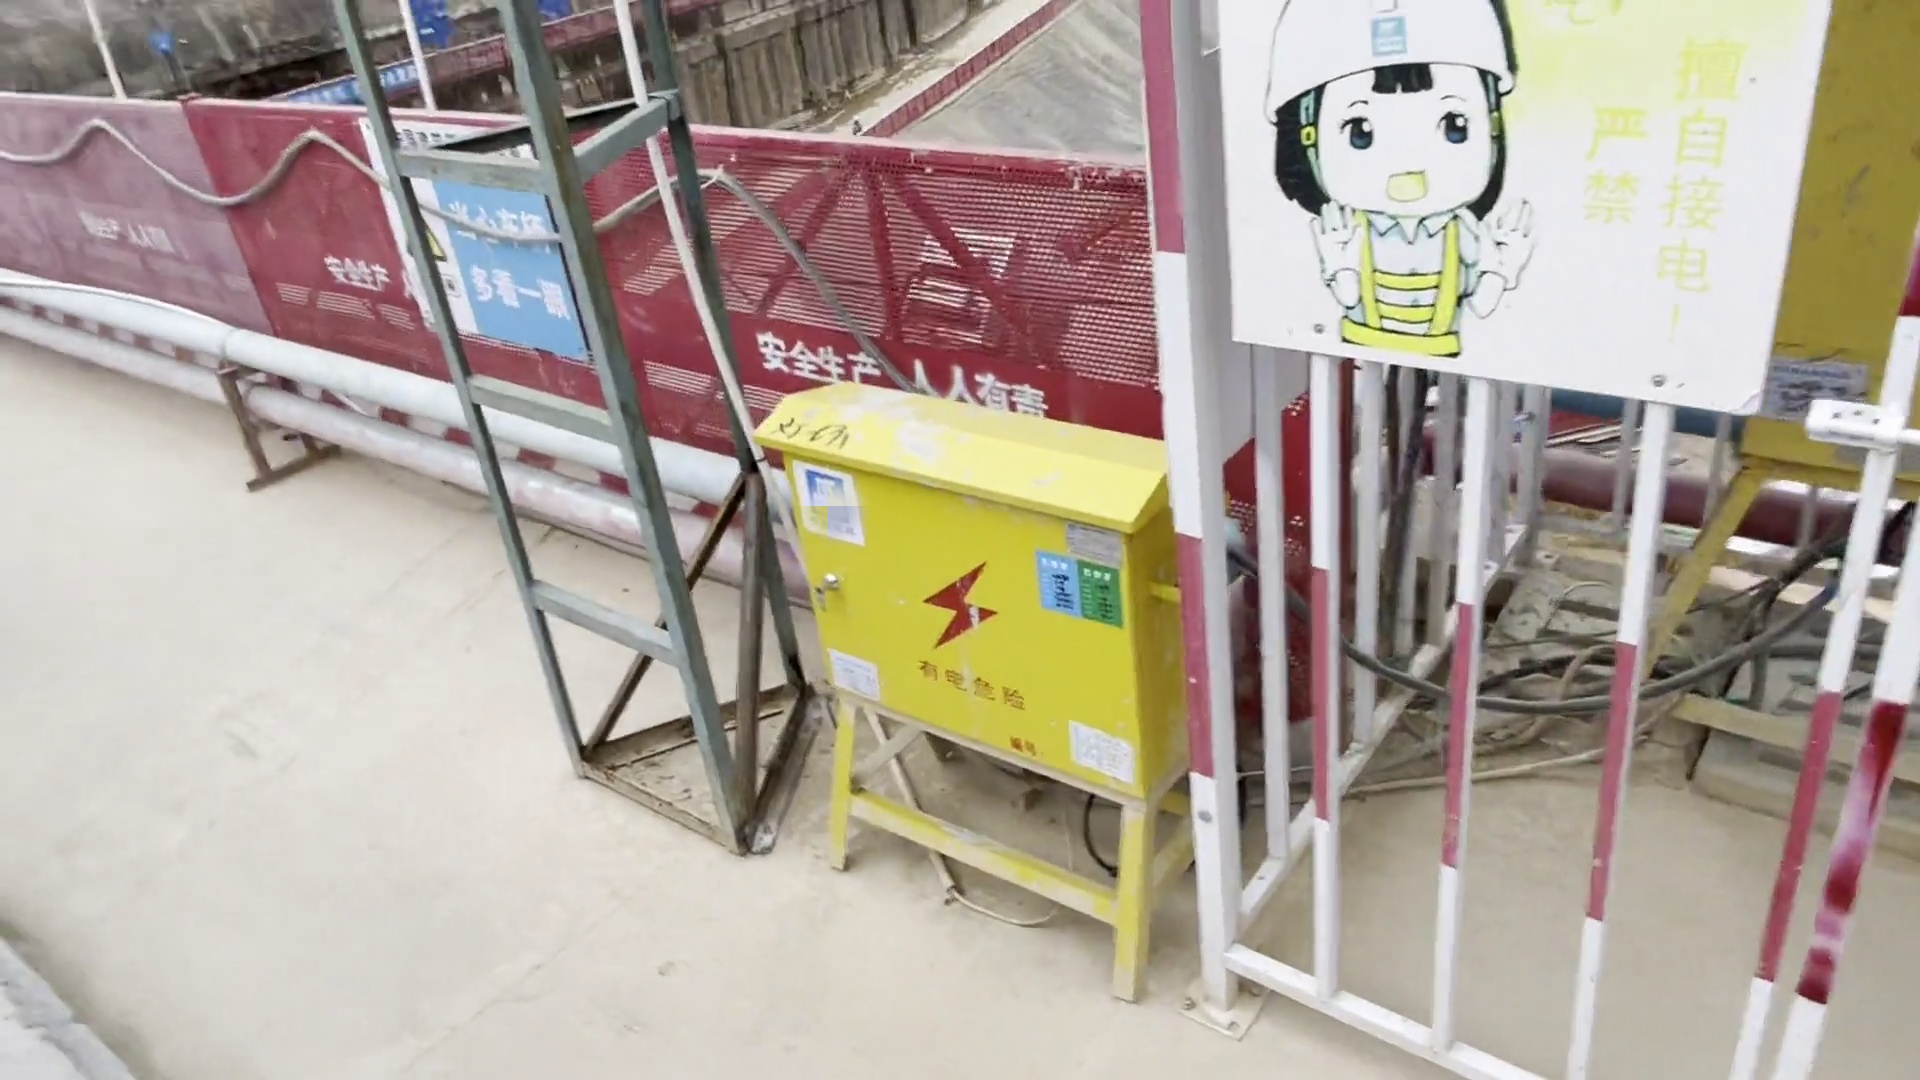ebox: (756, 378, 1203, 1013)
fence: (1, 84, 1196, 448)
slogan: (1218, 1, 1857, 394), (323, 116, 607, 371)
